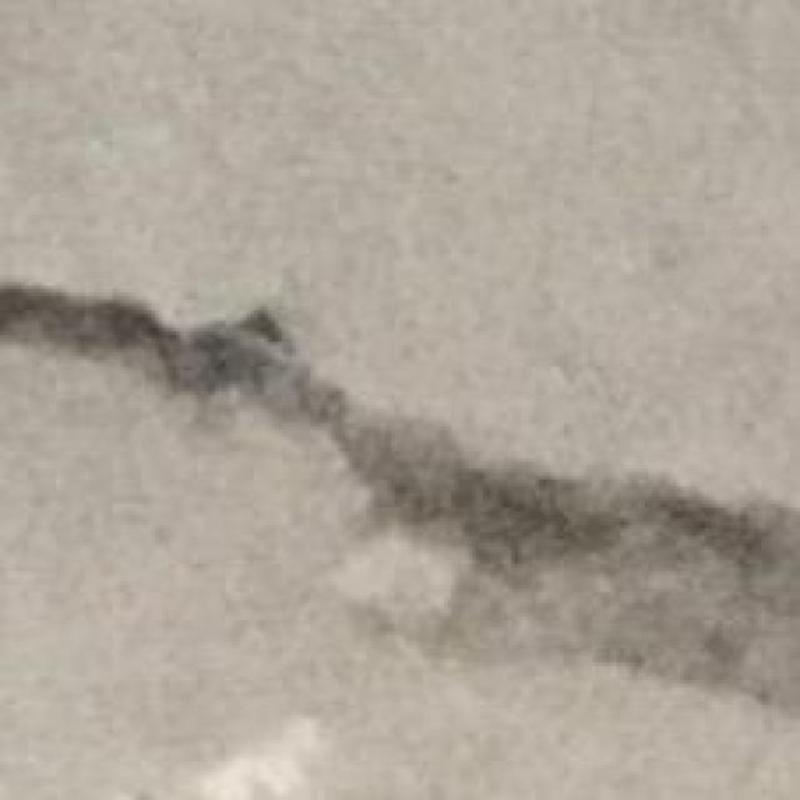pothole: (0, 284, 799, 581)
